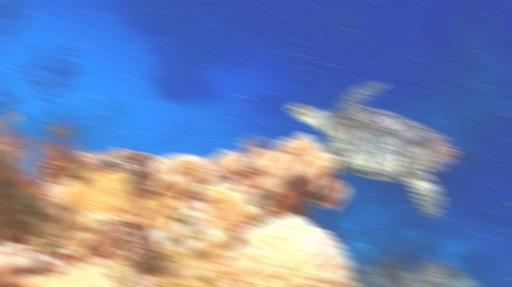Fish: (287, 81, 466, 217)
